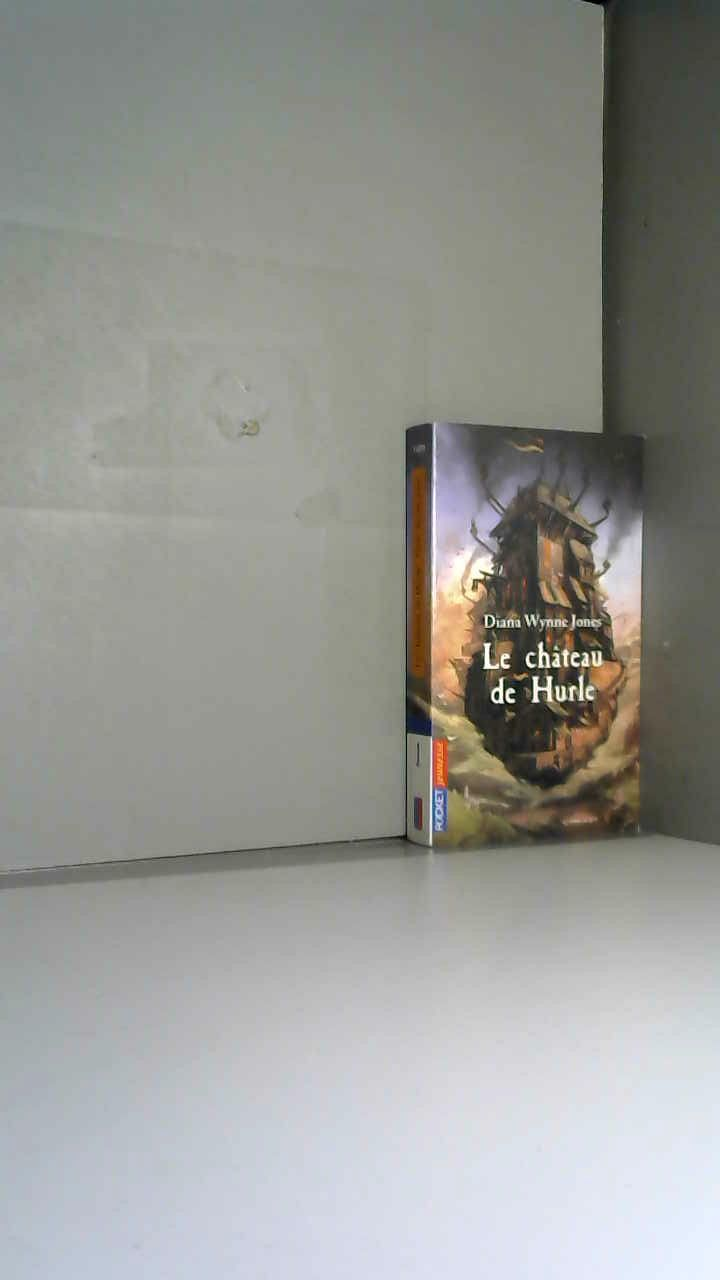book: (380, 400, 720, 912)
